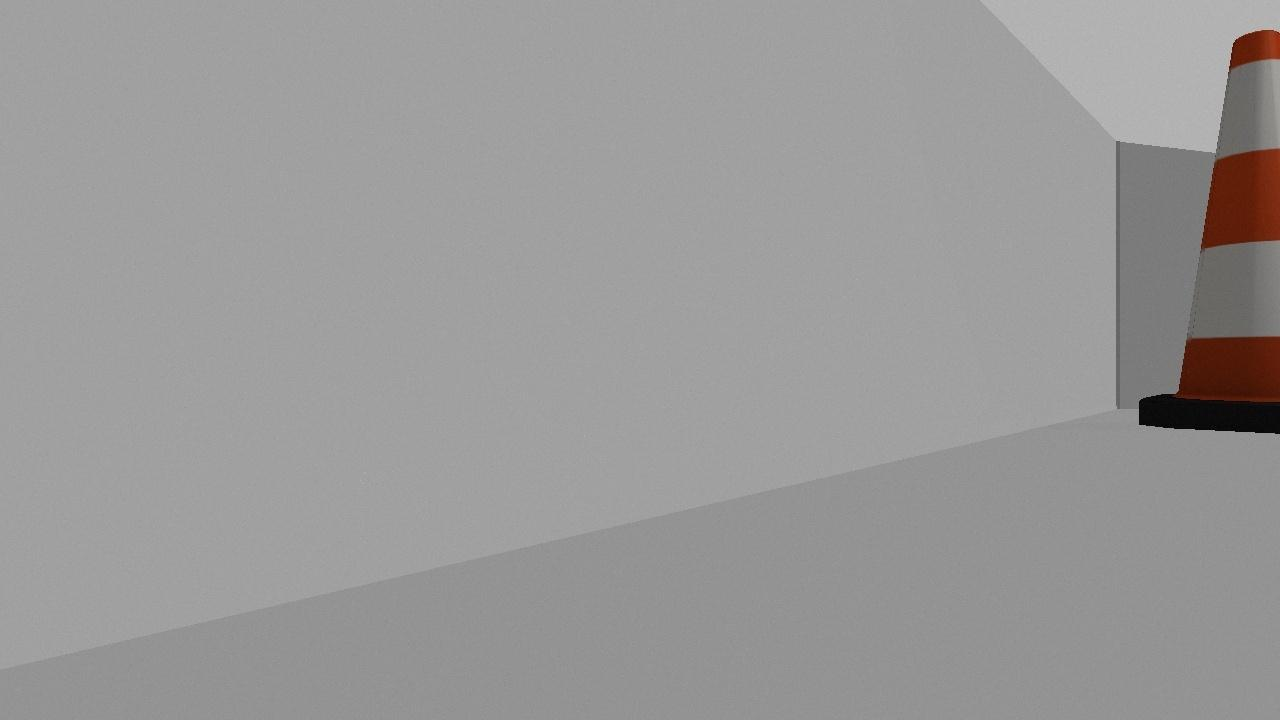cone_barrel: (1117, 23, 1279, 454)
